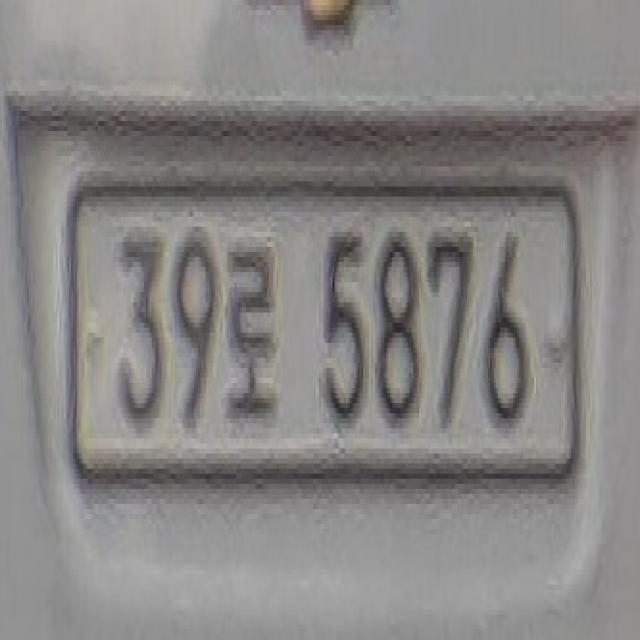3: (114, 227, 168, 428)
5: (317, 212, 369, 433)
6: (480, 232, 532, 433)
7: (424, 232, 474, 428)
8: (373, 222, 419, 428)
9: (171, 227, 217, 428)
license_plate: (65, 171, 580, 489)
lo: (223, 232, 279, 428)
